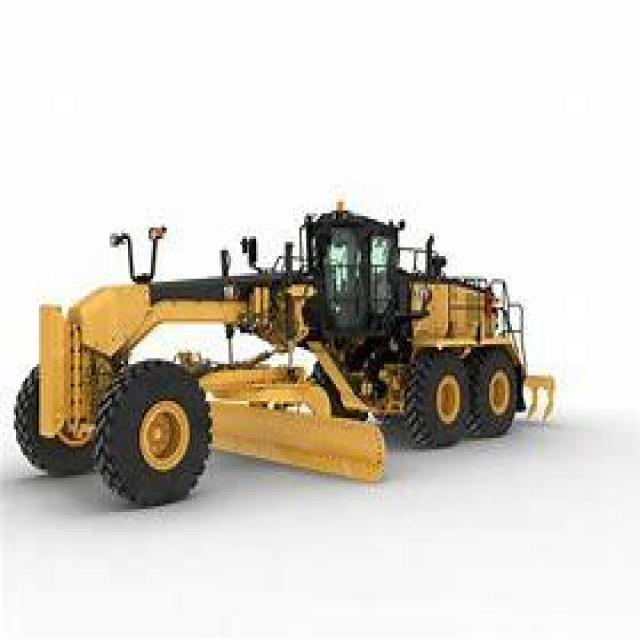bull_dozer/loader/grader: (9, 202, 560, 518)
